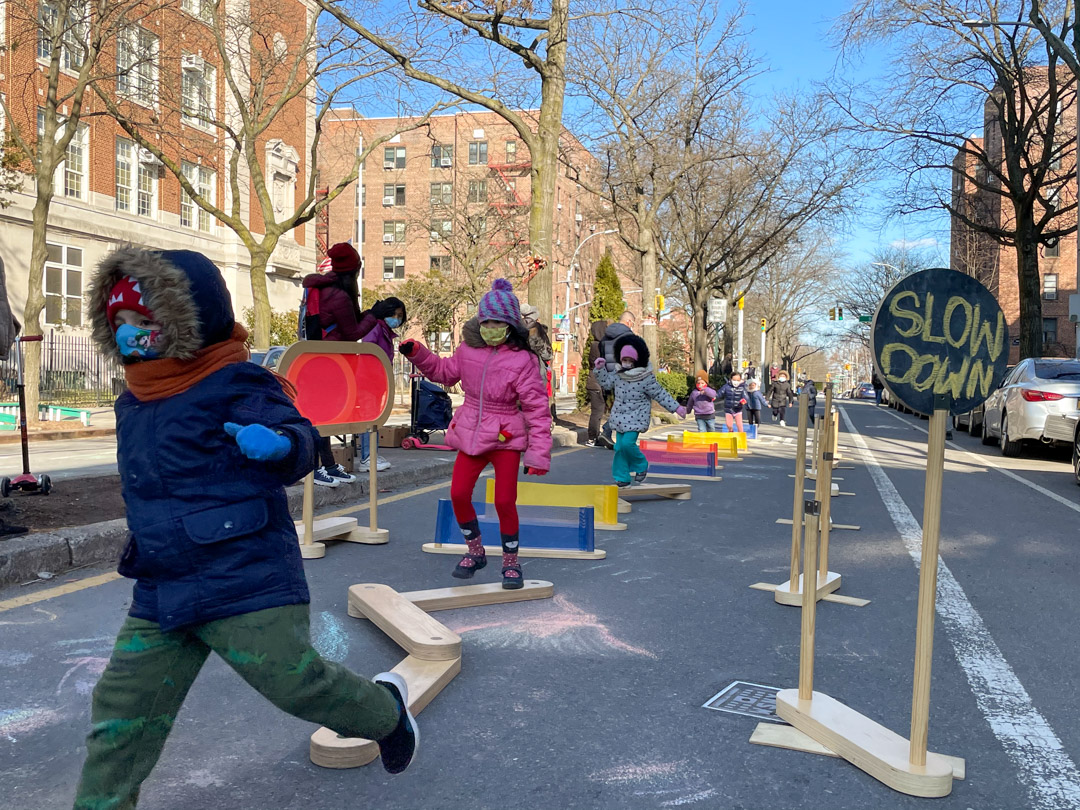Person: (61, 229, 429, 810), (422, 273, 548, 662), (600, 329, 682, 487)
